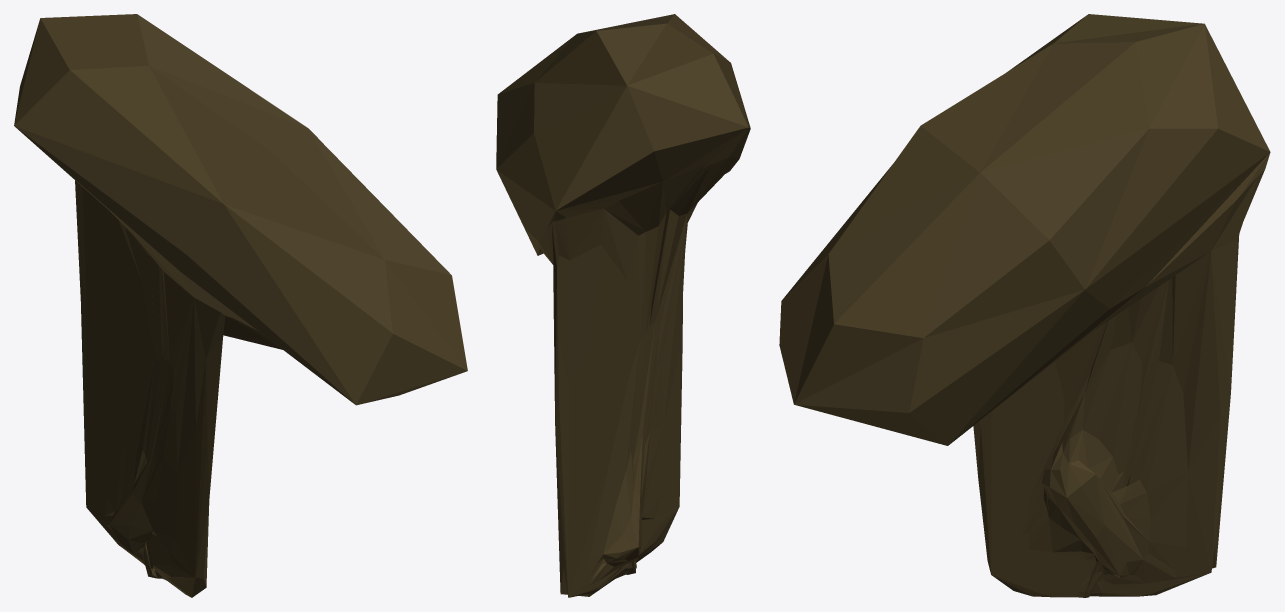
3 views of the same model, side by side, from view 1: azimuth 30°, elevation 25°; view 2: azimuth 150°, elevation 25°; view 3: azimuth 270°, elevation 25° (orthographic). The views are drawn at different scales.
Parts seen in each view (by area): view 1: 048_Cube.195; view 2: 048_Cube.195; view 3: 048_Cube.195.
Part boxes in pixels (left/top/right/bottom): 048_Cube.195: left=14, top=14, right=467, bottom=597; 048_Cube.195: left=496, top=14, right=750, bottom=597; 048_Cube.195: left=779, top=14, right=1270, bottom=597.
Bounding box in the file's own units: 8.05 × 12.94 × 10.34.
